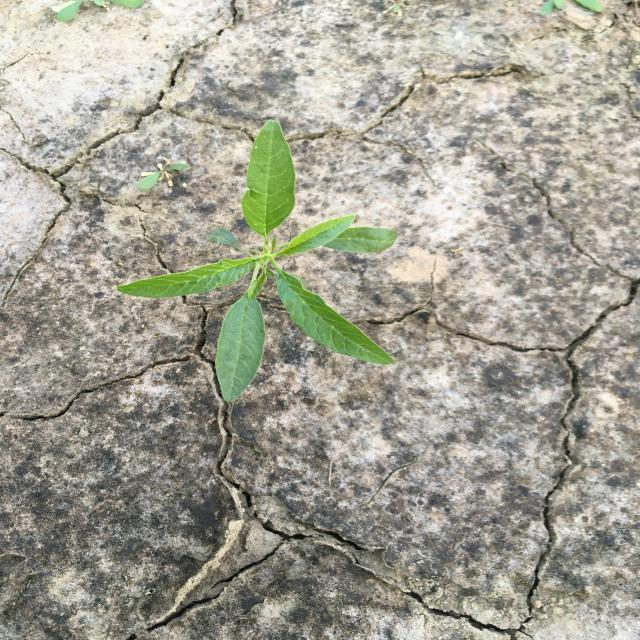Waterhemp: (113, 116, 401, 406)
